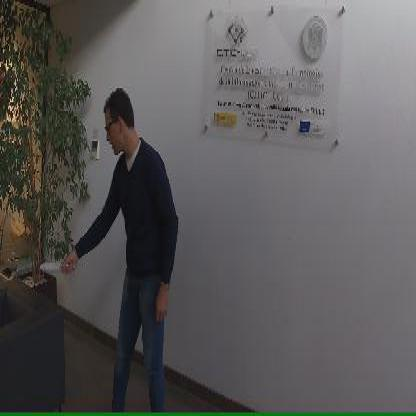knife: (38, 256, 76, 272)
